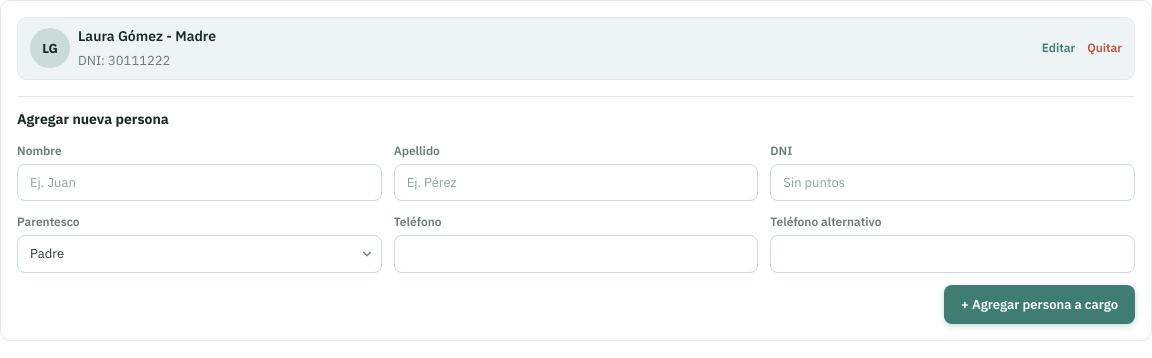
Test: PersonasACargoEditor — gateo de escritura › con permiso de escritura: "Agregar/Editar", los 3 <button> nativos y los campos están activables (triangulación)
This screenshot has width=1152, height=358.
Expected: the button "+ Agregar persona a cargo" is enabled, [944,284,1135,324]
Expected: the button with aria-label "quitar laura gómez" is enabled, [1087,40,1122,56]
Click the button with aria-label "editar laura gómez" at (1058, 48), box [1042,40,1075,56]
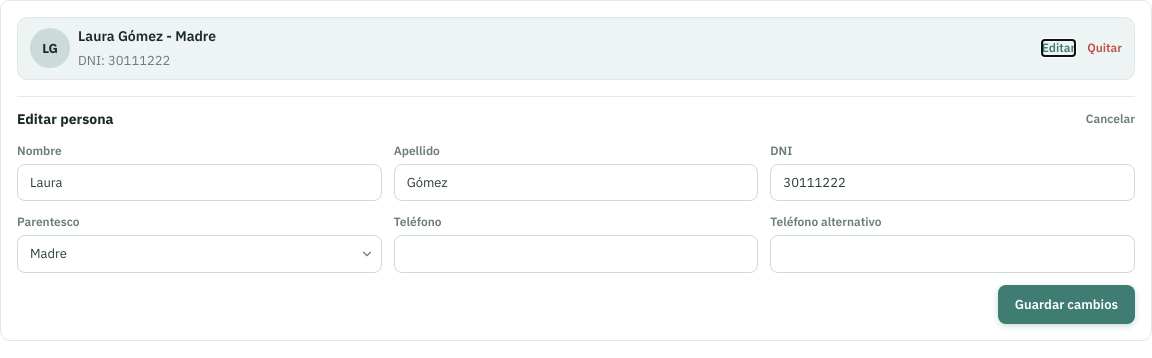
Expected: the button "Cancelar" is enabled, [1086,111,1135,127]
